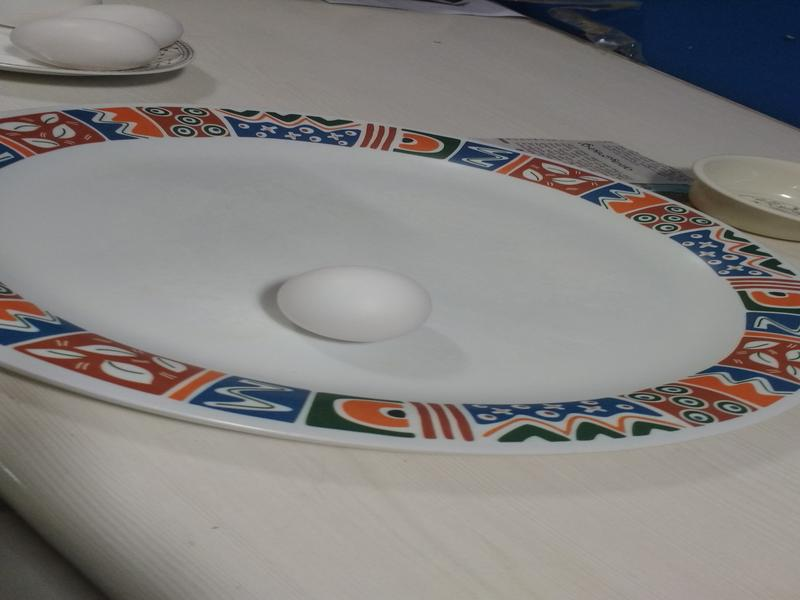egg: (272, 263, 436, 340)
